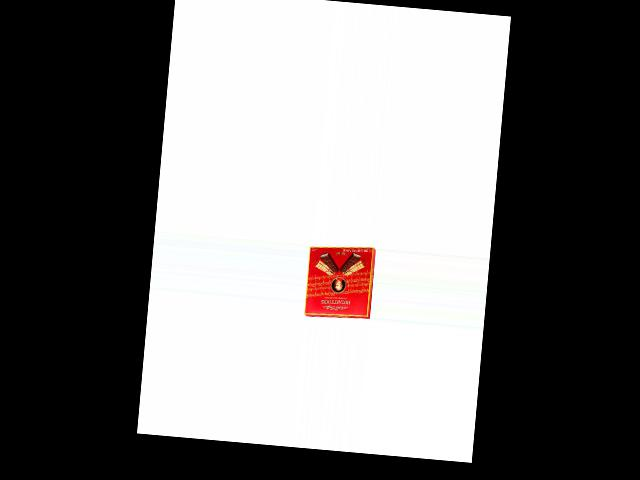chocolate: (302, 239, 376, 320)
